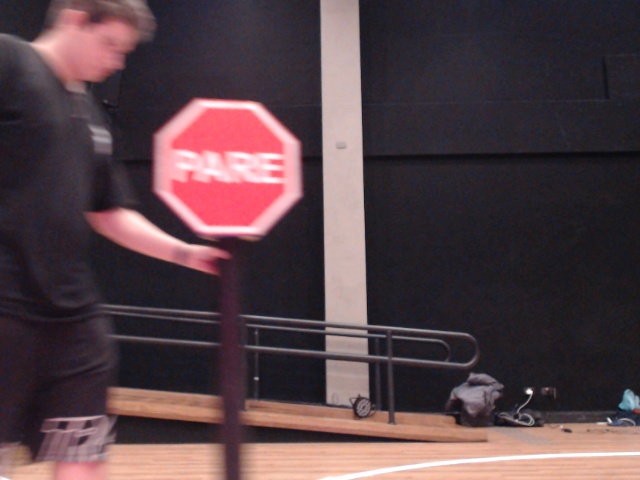SEMAFORO: (91, 67, 362, 316)
